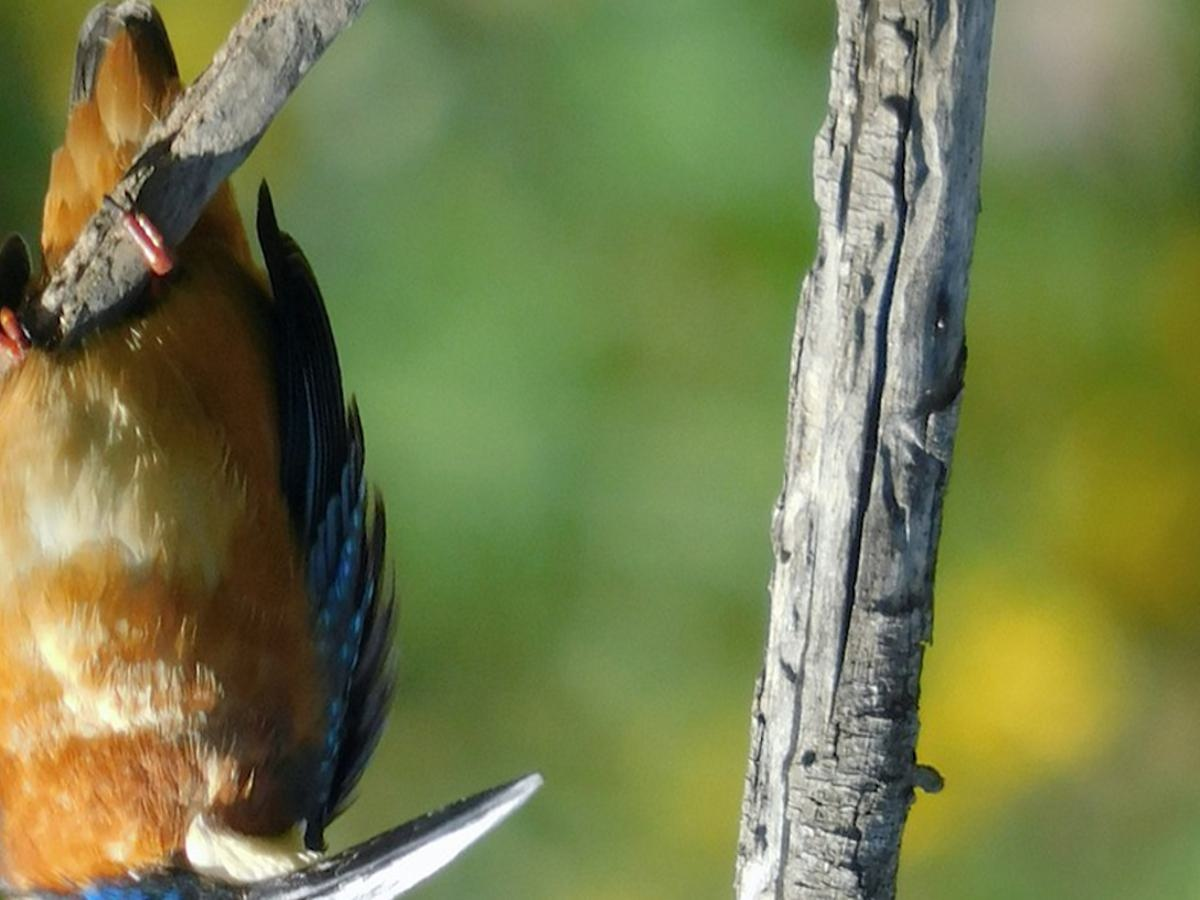kingfisher: (1, 75, 537, 888)
